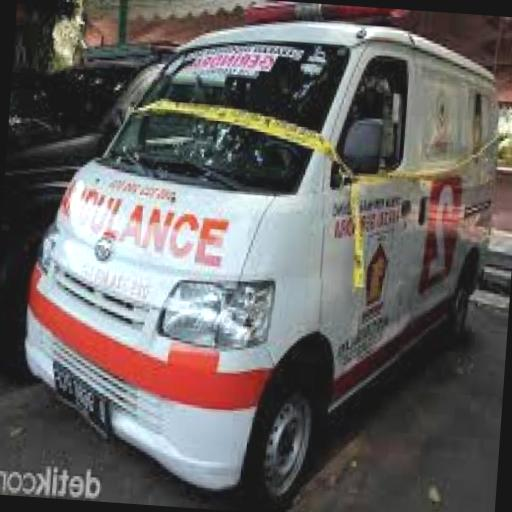Police car: (18, 0, 512, 507)
